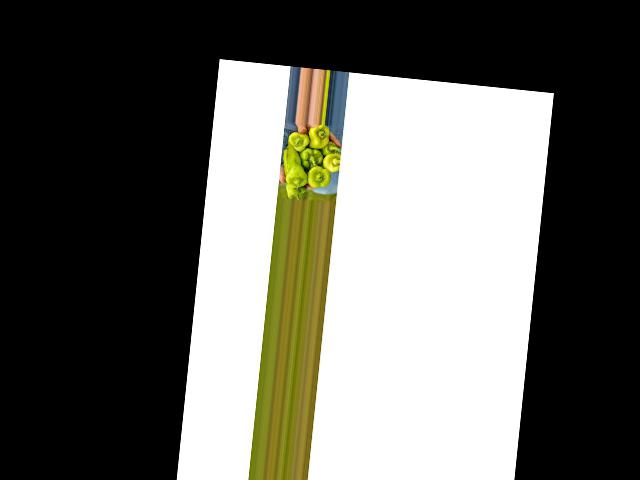bell_pepper: (308, 124, 332, 151)
